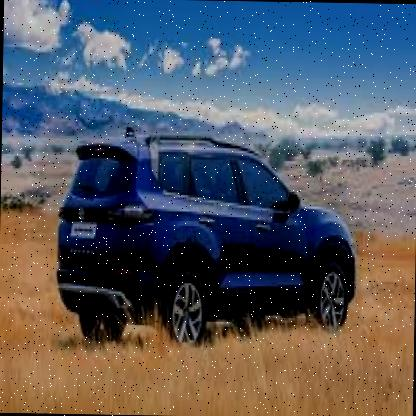car: (52, 125, 362, 359)
